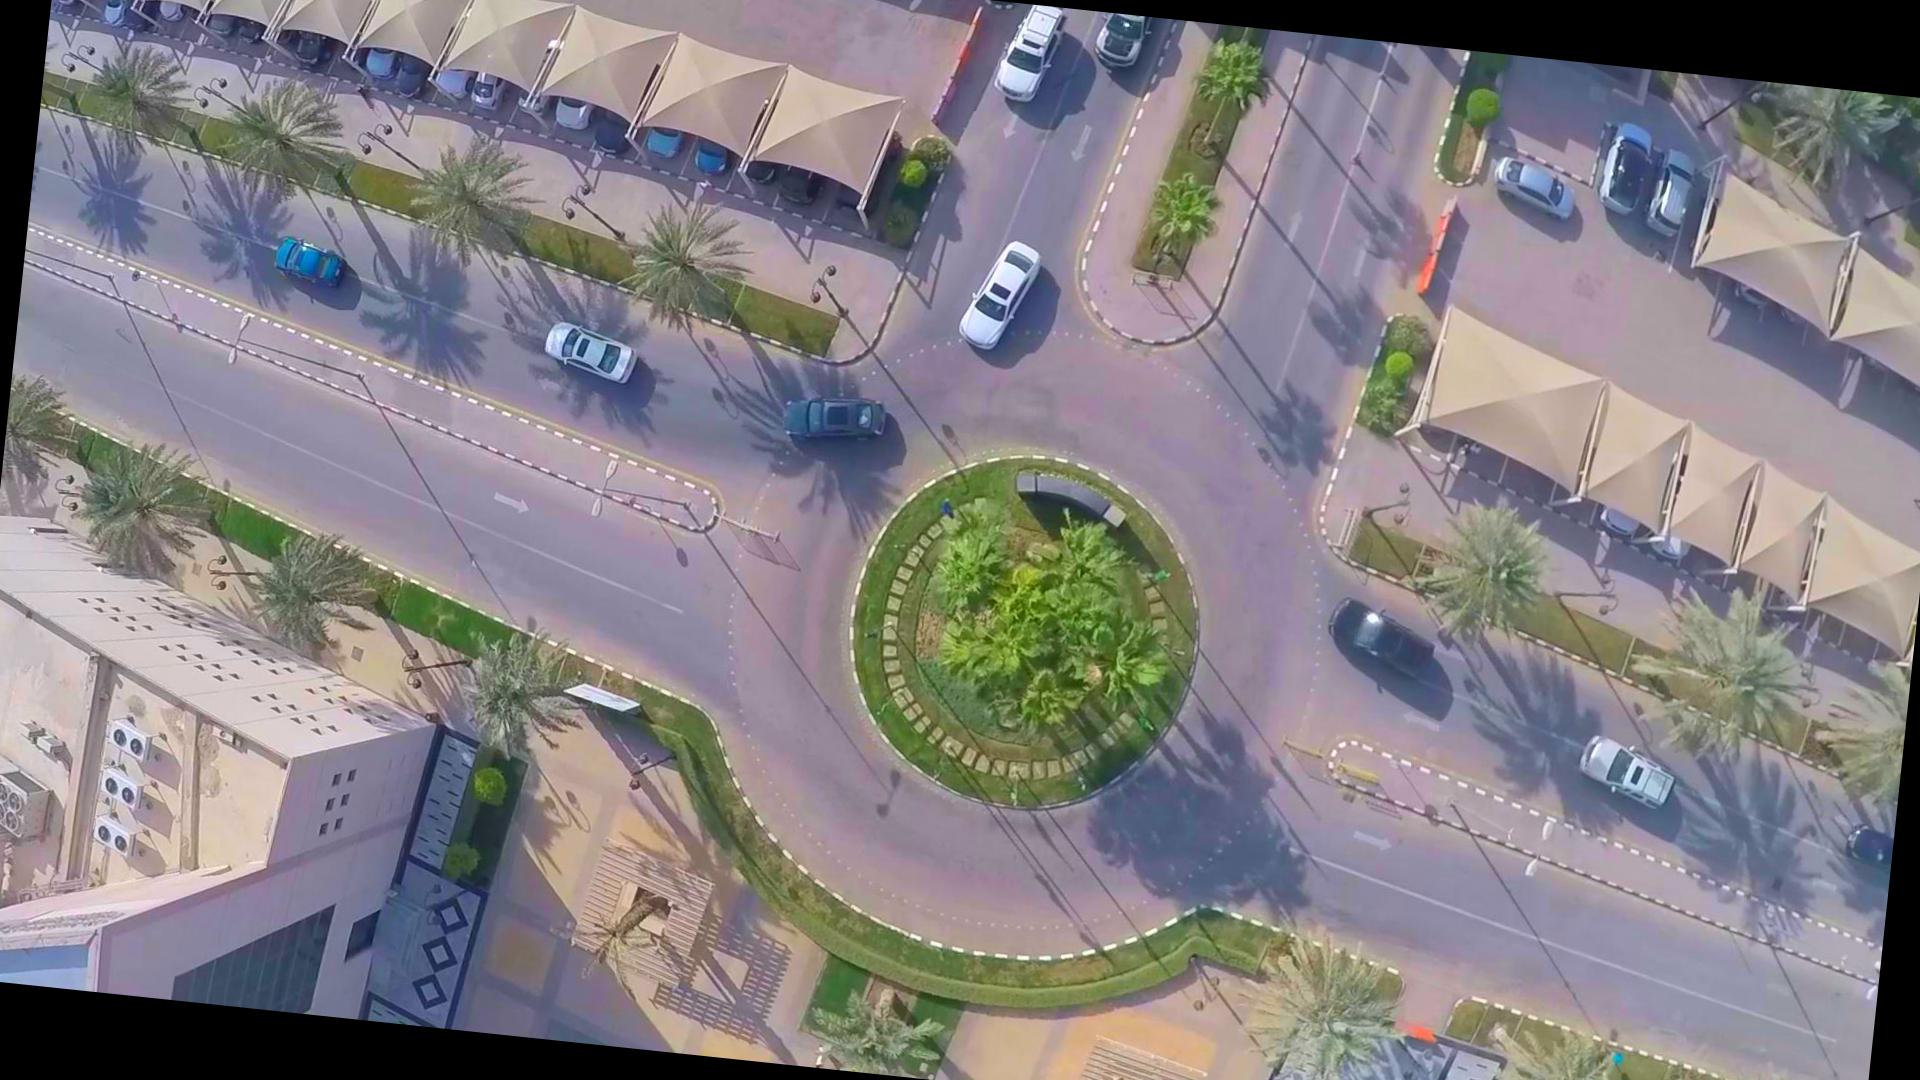vehicle: (1552, 722, 1696, 836), (956, 226, 1052, 378), (514, 303, 654, 389), (1304, 588, 1434, 676), (770, 382, 912, 448), (261, 231, 374, 303), (1485, 157, 1585, 232)
